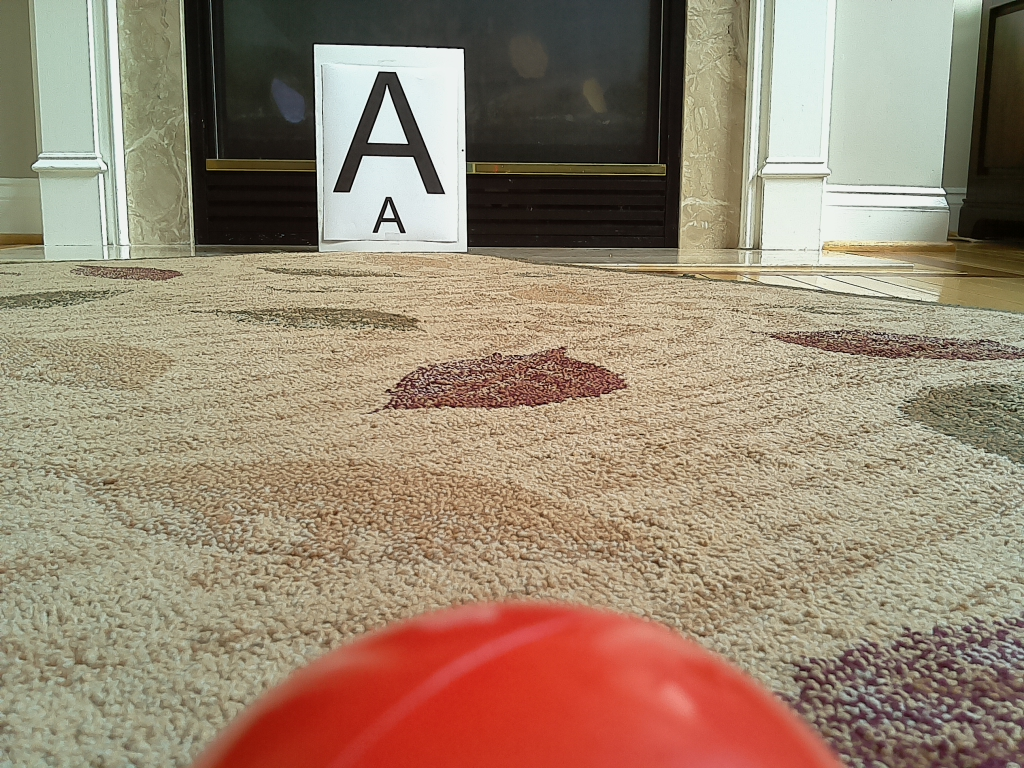letter: (331, 71, 446, 193)
